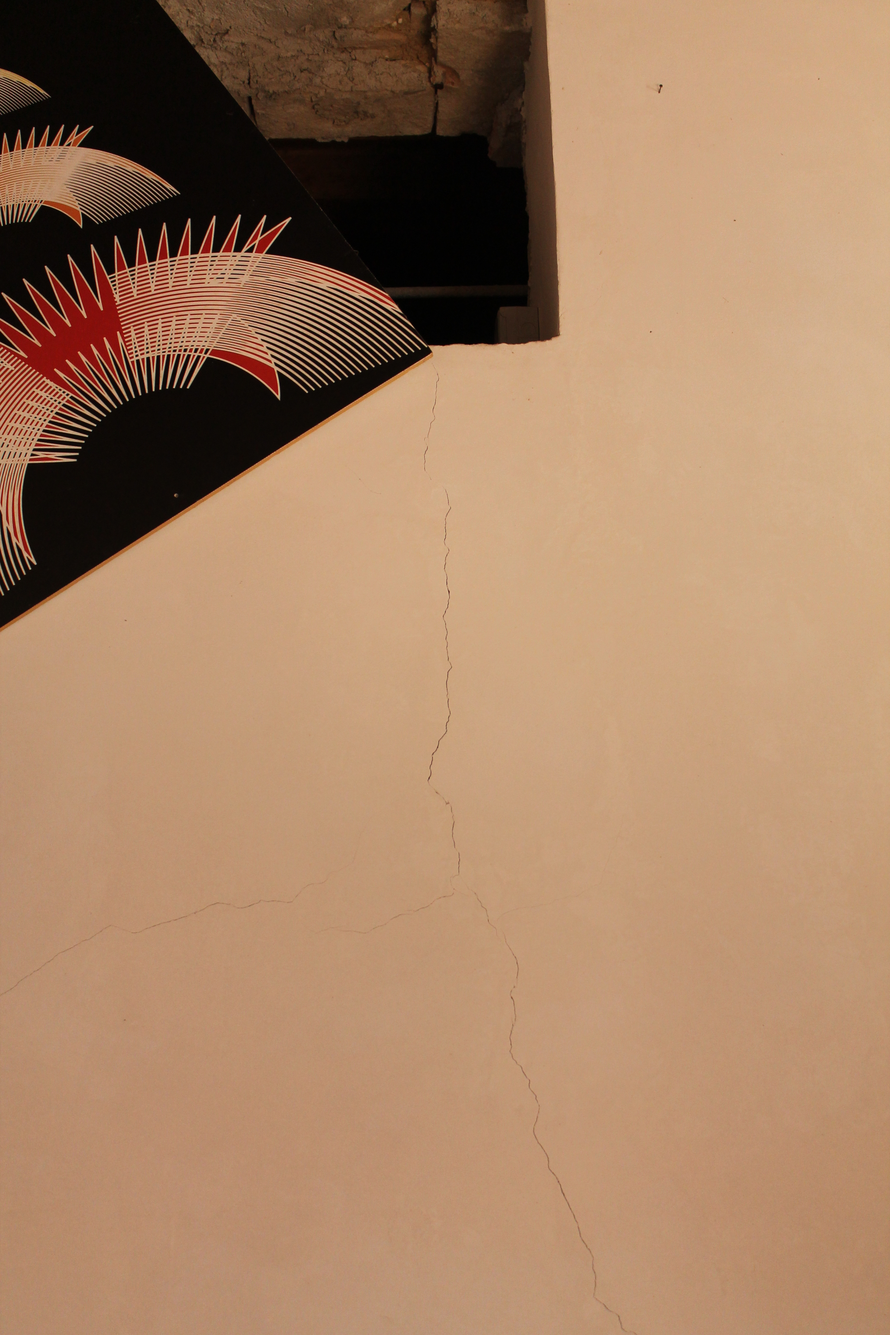Crack: (20, 353, 773, 1323)
